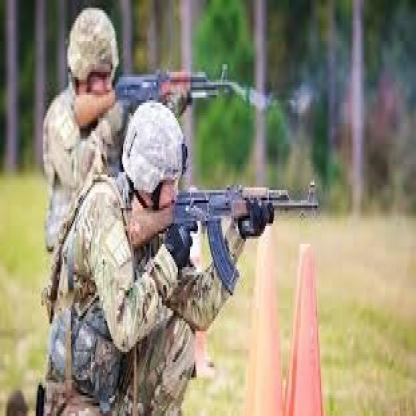Gun: (125, 175, 319, 290), (74, 57, 230, 134)
